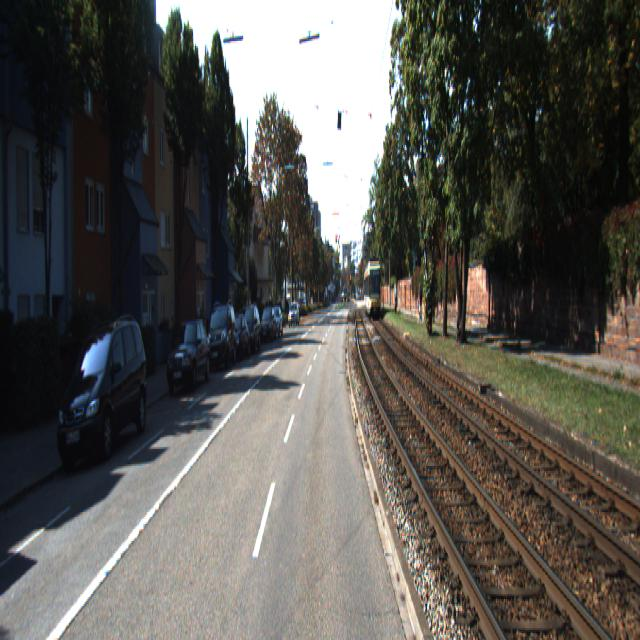Car: (55, 318, 151, 476), (165, 314, 212, 394), (205, 300, 238, 374), (237, 303, 261, 357), (226, 312, 249, 363), (363, 264, 382, 322)
